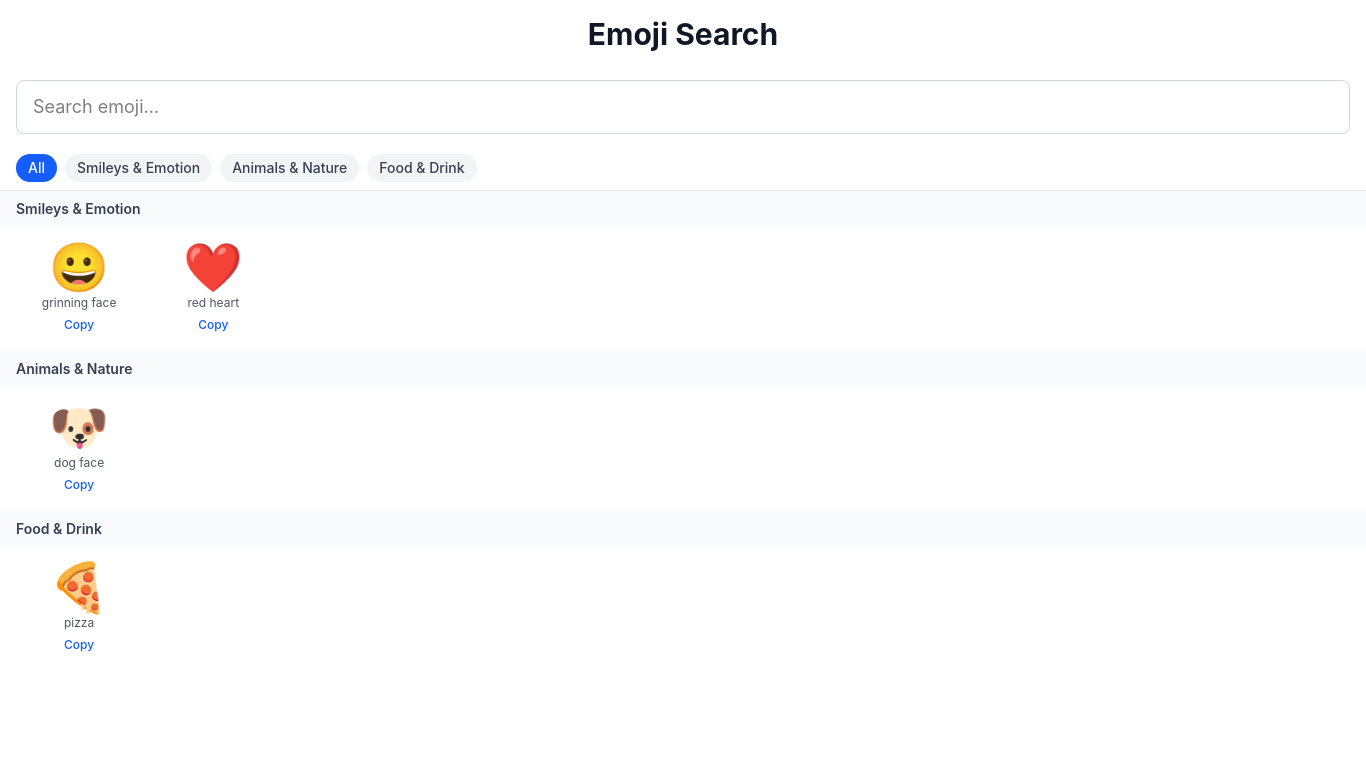
App component › shows an error alert when clipboard copy fails
This screenshot has width=1366, height=768.
Click the button with aria-label "Copy grinning face": (79,325) [56, 315, 102, 335]
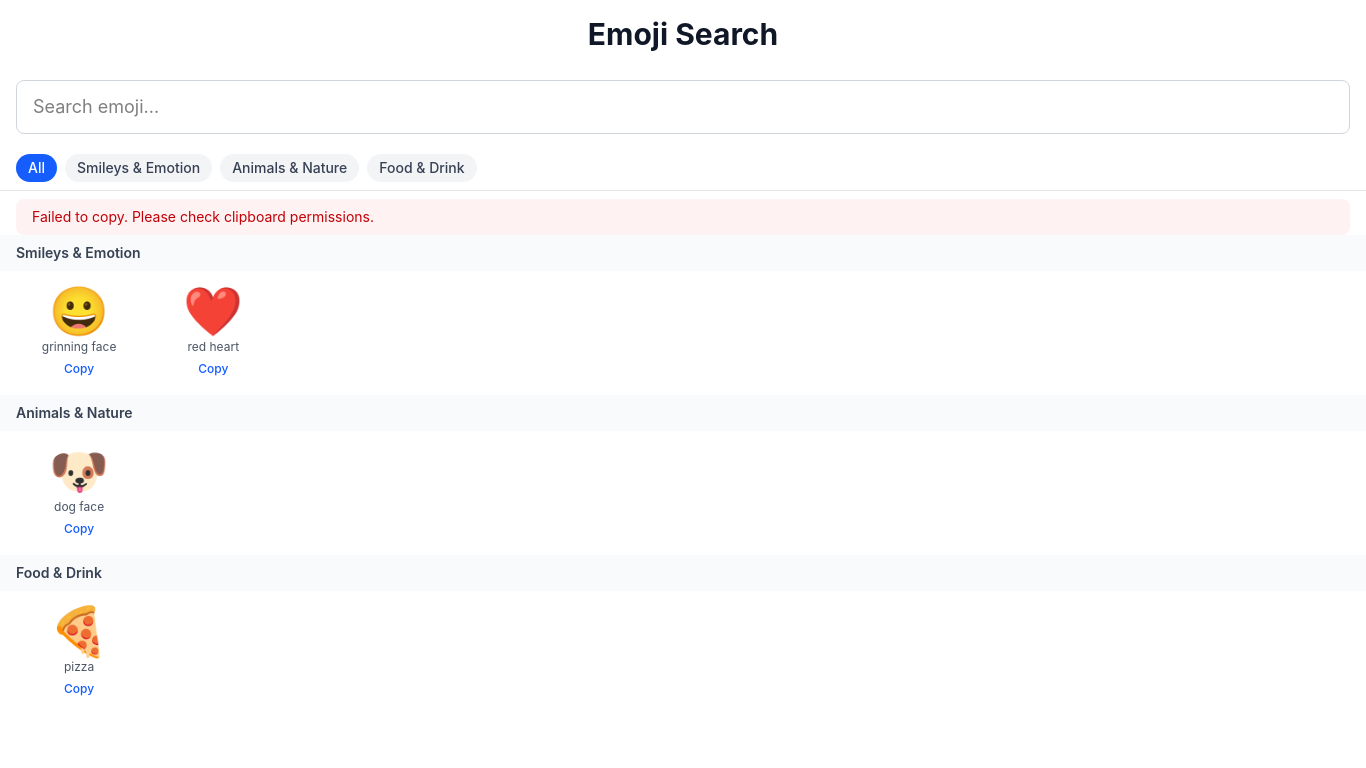
Expected: the message reads "Failed to copy. Please check clipboard permissions.", [32, 208, 374, 225]
